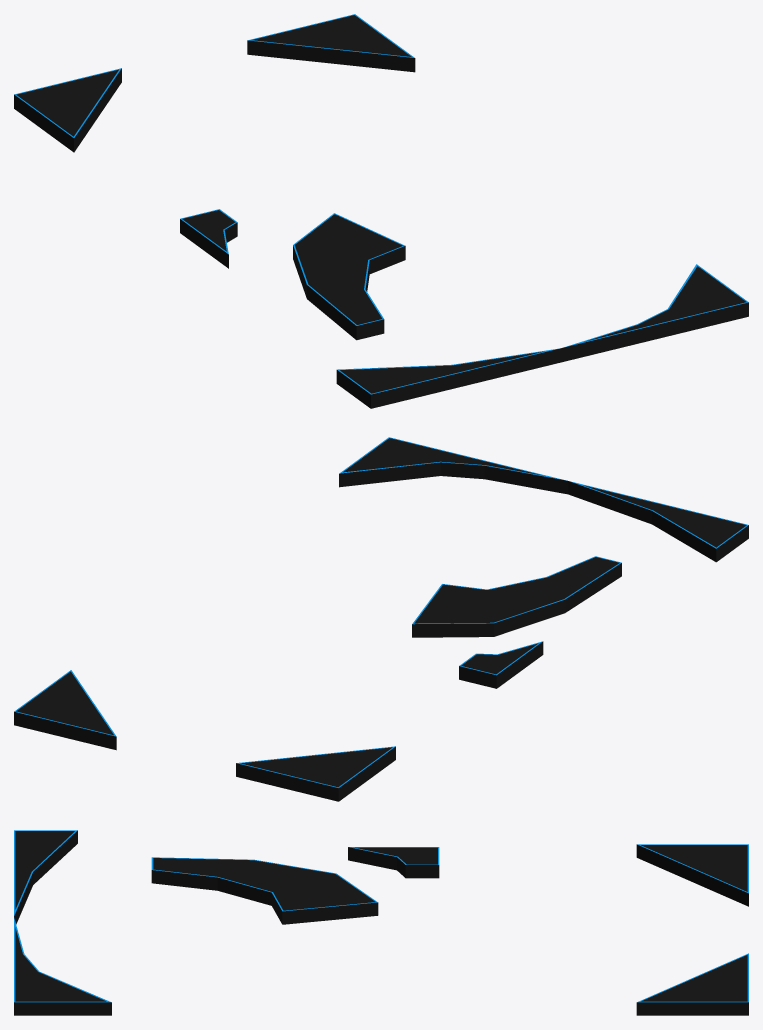
The picture shows the model from 3 angles, top to bottom: view 1: azimuth 30°, elevation 25°; view 2: azimuth 150°, elevation 25°; view 3: azimuth 270°, elevation 25°; orthographic projection. The views are drawn at different scales.
Visible parts, largest first — view 1: Plane001; view 2: Plane001; view 3: Plane001.
Boxes of the visible parts, <box> form: Plane001: <box>14,14,748,408</box>; Plane001: <box>14,437,748,801</box>; Plane001: <box>14,830,748,1015</box>.
Bounding box in the file's own units: 277 × 12 × 500.
